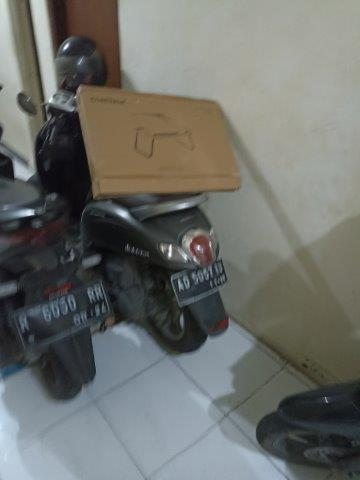kardus: (76, 86, 240, 190)
